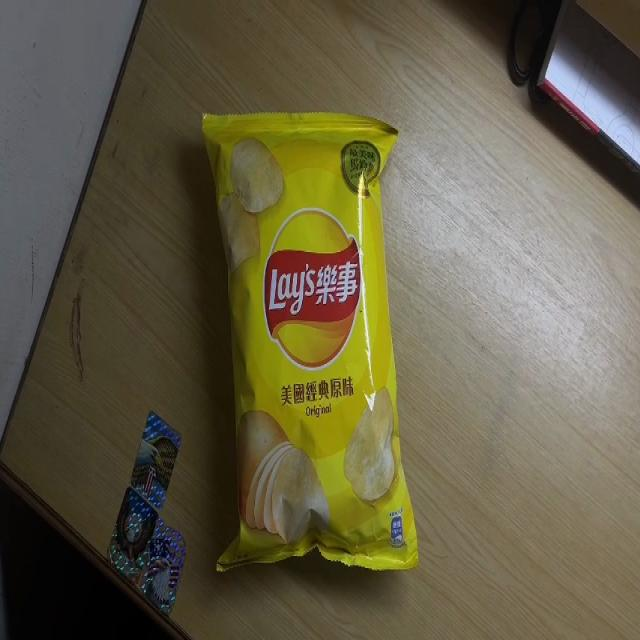Lay-s-original: (199, 108, 420, 578)
